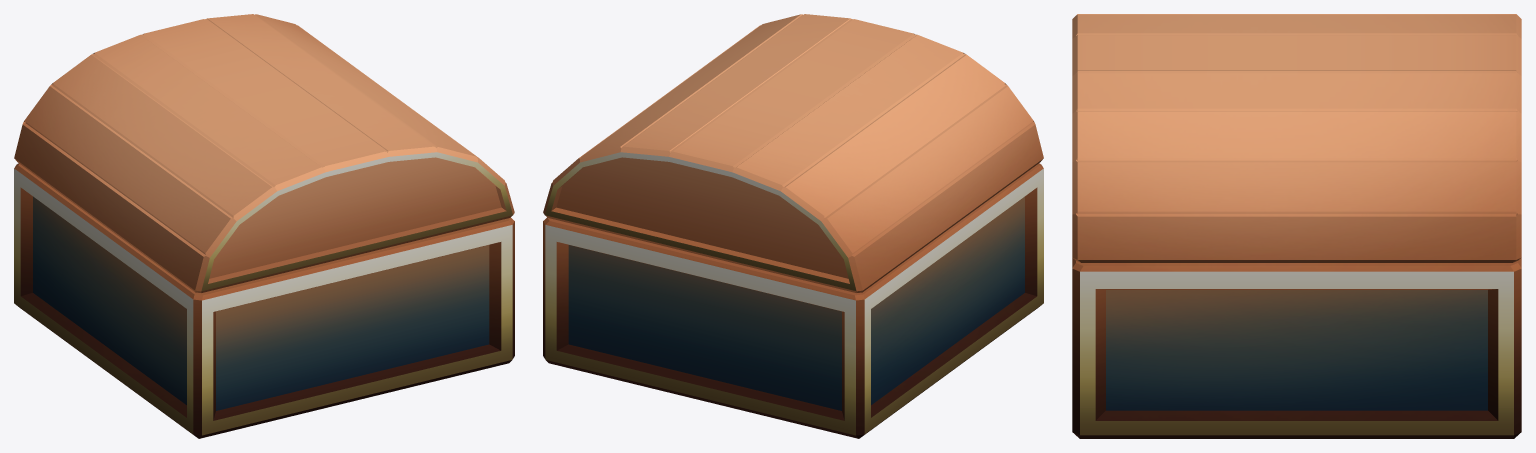
The model's file is Chest.fbx.
The picture shows the model from 3 angles, left to right: view 1: azimuth 30°, elevation 25°; view 2: azimuth 150°, elevation 25°; view 3: azimuth 270°, elevation 25°; orthographic projection. The views are drawn at different scales.
Parts seen in each view (by area): view 1: Cube.001; view 2: Cube.001; view 3: Cube.001.
Boxes of the visible parts, x1=… form: Cube.001: x1=14, y1=14, x2=514, y2=438; Cube.001: x1=543, y1=14, x2=1043, y2=438; Cube.001: x1=1072, y1=14, x2=1521, y2=438.
Bounding box in the file's own units: 140 × 101 × 140.
